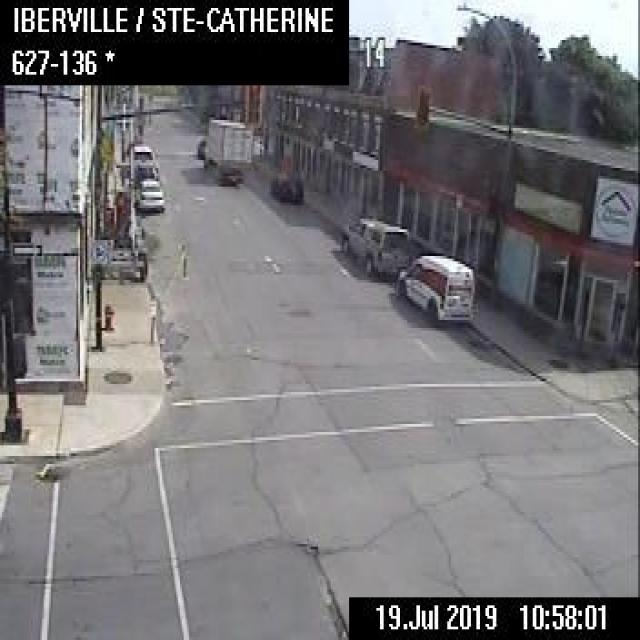construction: (91, 154, 146, 282)
vehicle: (396, 253, 474, 325), (339, 212, 408, 277), (202, 118, 250, 182), (269, 165, 302, 200), (135, 178, 163, 213), (132, 157, 158, 186), (130, 142, 152, 159), (195, 136, 205, 157)
